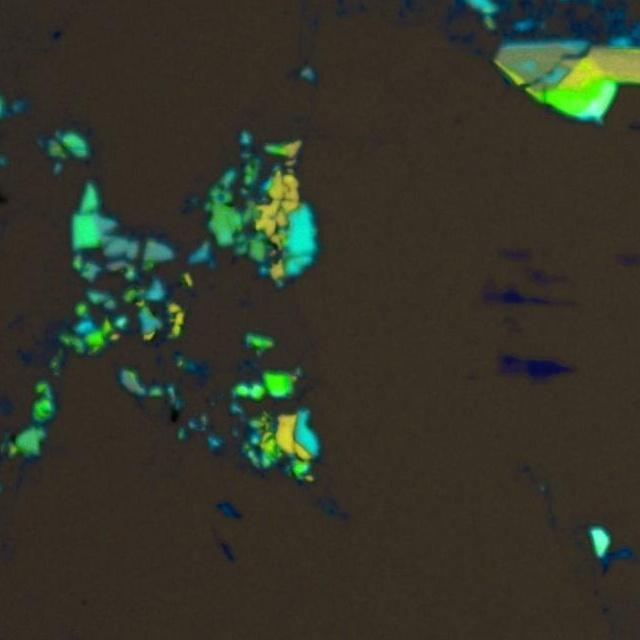monolayer-eWW4: (499, 355, 527, 377), (498, 246, 532, 262), (529, 270, 559, 288), (617, 252, 640, 270), (482, 289, 502, 304)
